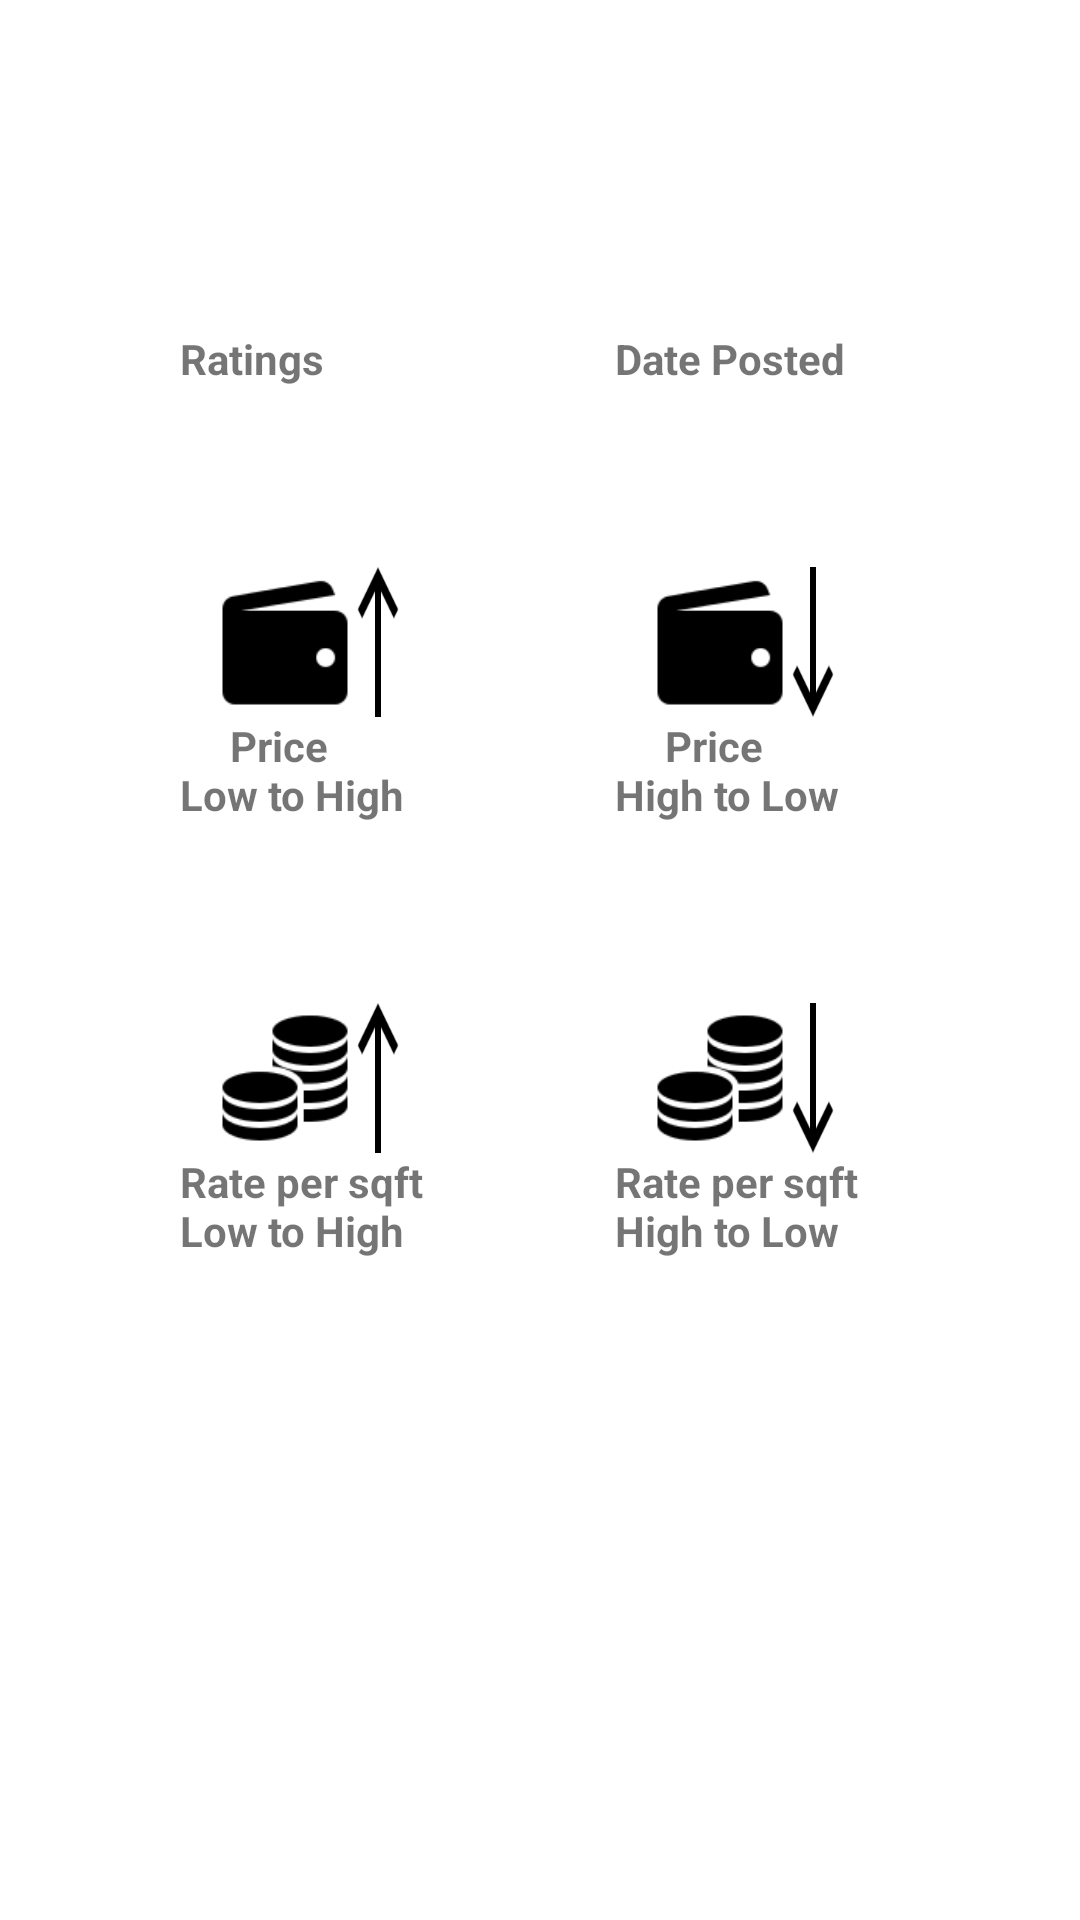

Icons on this 1080w x 1920h Android screen, each with its box as (x1=x1, y1=y1, x2=x2, y2=y2):
down arrow: (x1=793, y1=567, x2=833, y2=717), (x1=793, y1=1003, x2=833, y2=1153)
up arrow: (x1=358, y1=567, x2=398, y2=717), (x1=358, y1=1003, x2=398, y2=1153)
